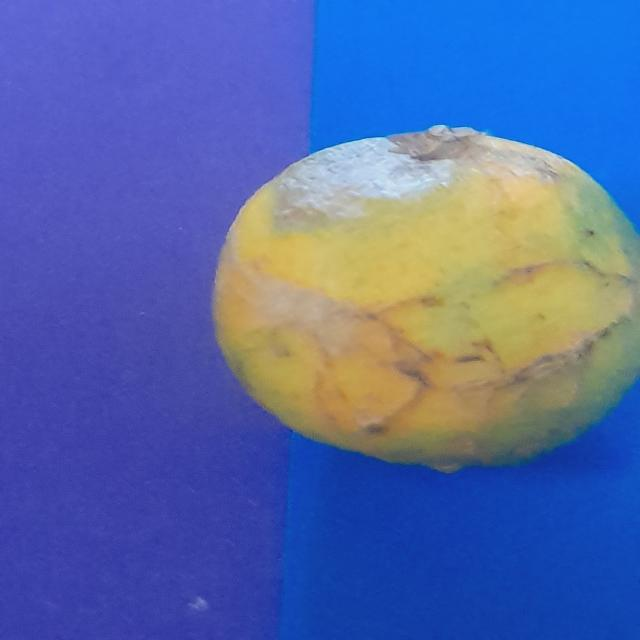thrips: (194, 120, 640, 462)
